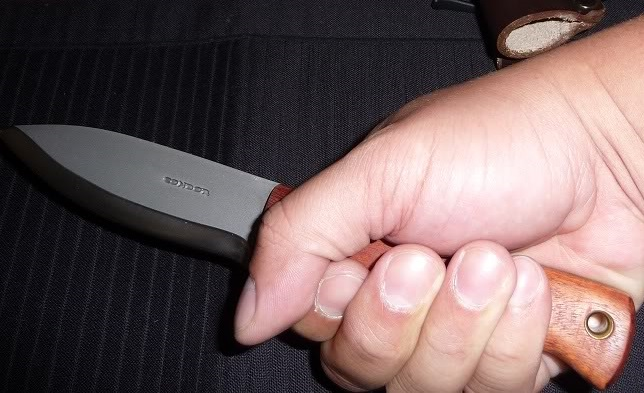knife: (9, 111, 475, 341)
